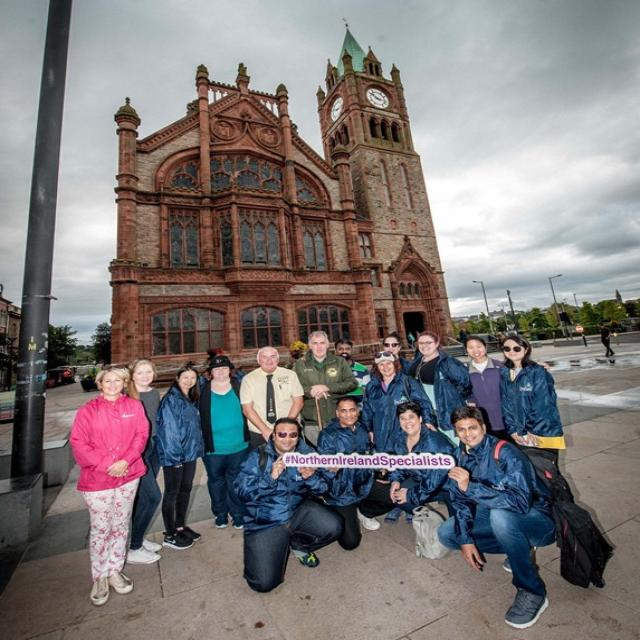body: (434, 403, 581, 632), (229, 417, 348, 596), (68, 362, 154, 608), (315, 394, 402, 552), (497, 334, 569, 522), (191, 352, 254, 530), (153, 364, 207, 552), (120, 357, 164, 564), (290, 329, 361, 450), (386, 401, 457, 518), (406, 330, 474, 448), (359, 349, 436, 453), (238, 345, 306, 449), (461, 334, 507, 440), (332, 336, 374, 423), (368, 331, 416, 377), (406, 325, 474, 350), (544, 357, 638, 372), (596, 321, 616, 358)
